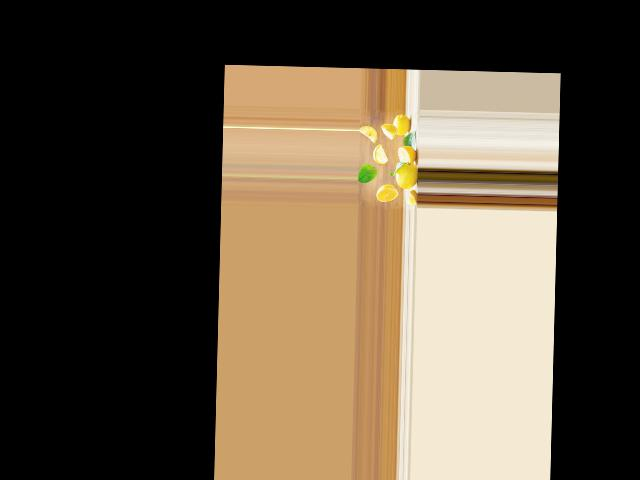lemon: (390, 111, 410, 136)
